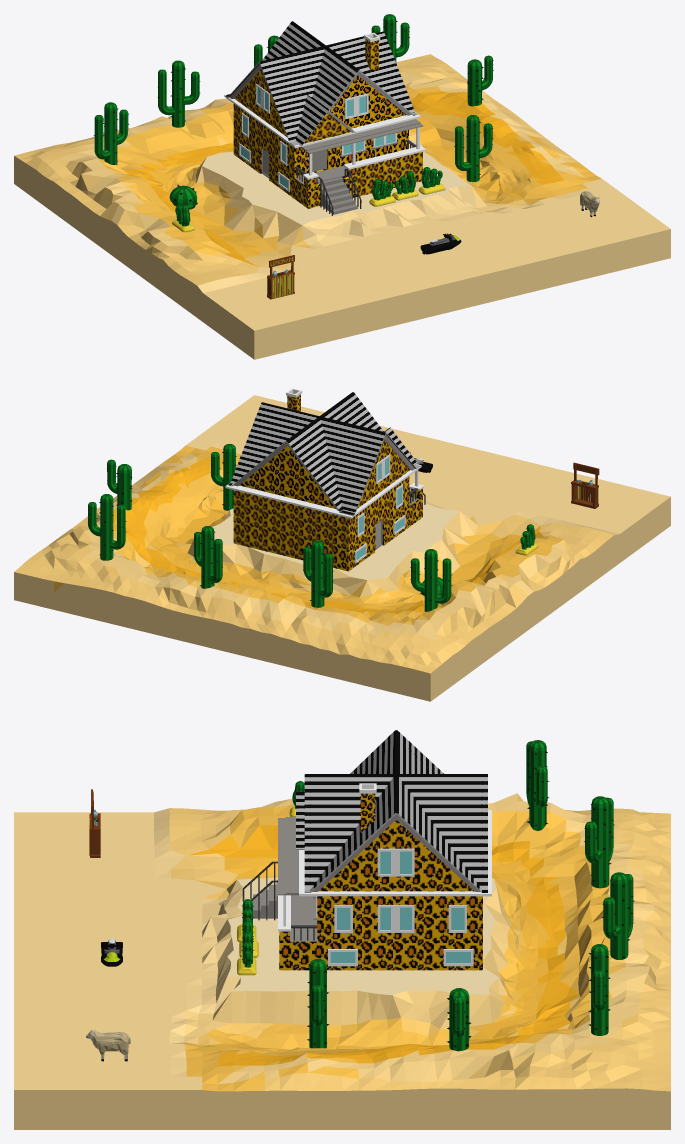
3 views of the same model, one above another, from view 1: azimuth 30°, elevation 25°; view 2: azimuth 150°, elevation 25°; view 3: azimuth 270°, elevation 25° (orthographic). The views are drawn at different scales.
Parts seen in each view (by area): view 1: Cube.001, Cube.637, Cylinder.037, Cylinder.044, Cylinder.045, Cylinder.038, OBJRANDOM_LEMONADE_STAND, Cylinder.042, Cylinder.039, Cylinder.041, Sphere.023, Cylinder.040; view 2: Cube.001, Cube.637, Cylinder.042, Cylinder.045, Cylinder.044, Cylinder.043, Cylinder.037, OBJRANDOM_LEMONADE_STAND, Cylinder.038; view 3: Cube.001, Cube.637, Cylinder.043, Cylinder.044, Cylinder.045, Cylinder.042, Cylinder.037, Cylinder.038, ANIMAL_OVEJA, Cylinder.041, OBJRANDOM_LEMONADE_STAND.
Part boxes in pixels (x1,y1,x2,y2): Cube.001: (14, 54, 670, 359); Cube.637: (224, 21, 425, 215); Cylinder.037: (454, 115, 493, 182); Cylinder.044: (157, 60, 200, 127); Cylinder.045: (93, 102, 129, 164); Cylinder.038: (467, 55, 493, 106); OBJRANDOM_LEMONADE_STAND: (267, 255, 294, 299); Cylinder.042: (371, 14, 409, 62); Cylinder.039: (369, 179, 395, 206); Cylinder.041: (418, 167, 445, 194); Sphere.023: (169, 184, 197, 209); Cylinder.040: (392, 171, 418, 200); Cube.001: (14, 395, 670, 701); Cube.637: (225, 388, 425, 571); Cylinder.042: (88, 494, 126, 560); Cylinder.045: (410, 549, 452, 611); Cylinder.044: (303, 540, 333, 607); Cylinder.043: (193, 526, 222, 588); Cylinder.037: (211, 444, 240, 510); OBJRANDOM_LEMONADE_STAND: (571, 462, 599, 508); Cylinder.038: (107, 459, 131, 510); Cube.001: (14, 793, 670, 1129); Cube.637: (242, 730, 491, 970); Cylinder.043: (602, 872, 634, 959); Cylinder.044: (584, 796, 614, 888); Cylinder.045: (526, 740, 549, 830); Cylinder.042: (588, 944, 610, 1035); Cylinder.037: (307, 959, 329, 1048); Cylinder.038: (447, 988, 471, 1051); ANIMAL_OVEJA: (86, 1029, 130, 1061); Cylinder.041: (237, 932, 256, 975); OBJRANDOM_LEMONADE_STAND: (89, 789, 100, 857).
Size of the model in its own units: 4002 by 1728 by 4001.
Materials: 30 (3 with a texture image).
